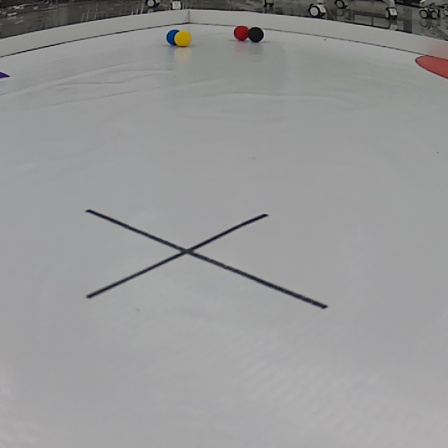black: (247, 25, 267, 44)
blue: (166, 28, 182, 47)
red: (232, 26, 251, 43)
red_base: (407, 50, 448, 94)
yellow: (173, 29, 196, 49)
